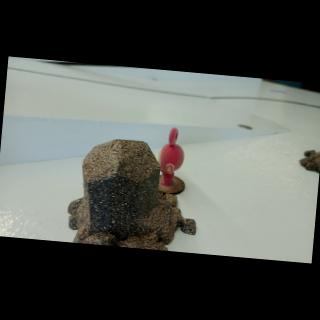teletubby: (158, 128, 184, 187)
